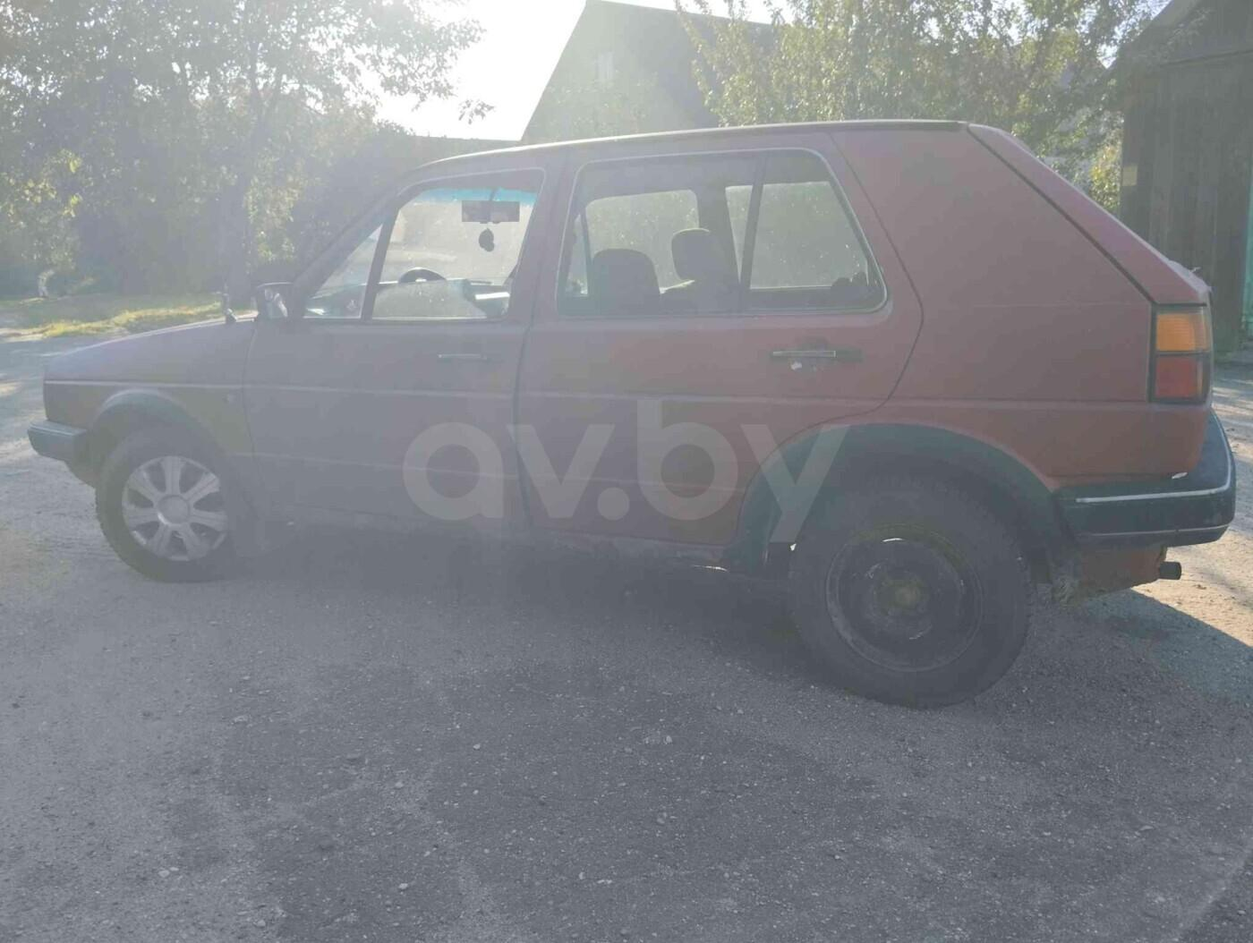Golf_1983-1992: (27, 120, 1240, 711)
